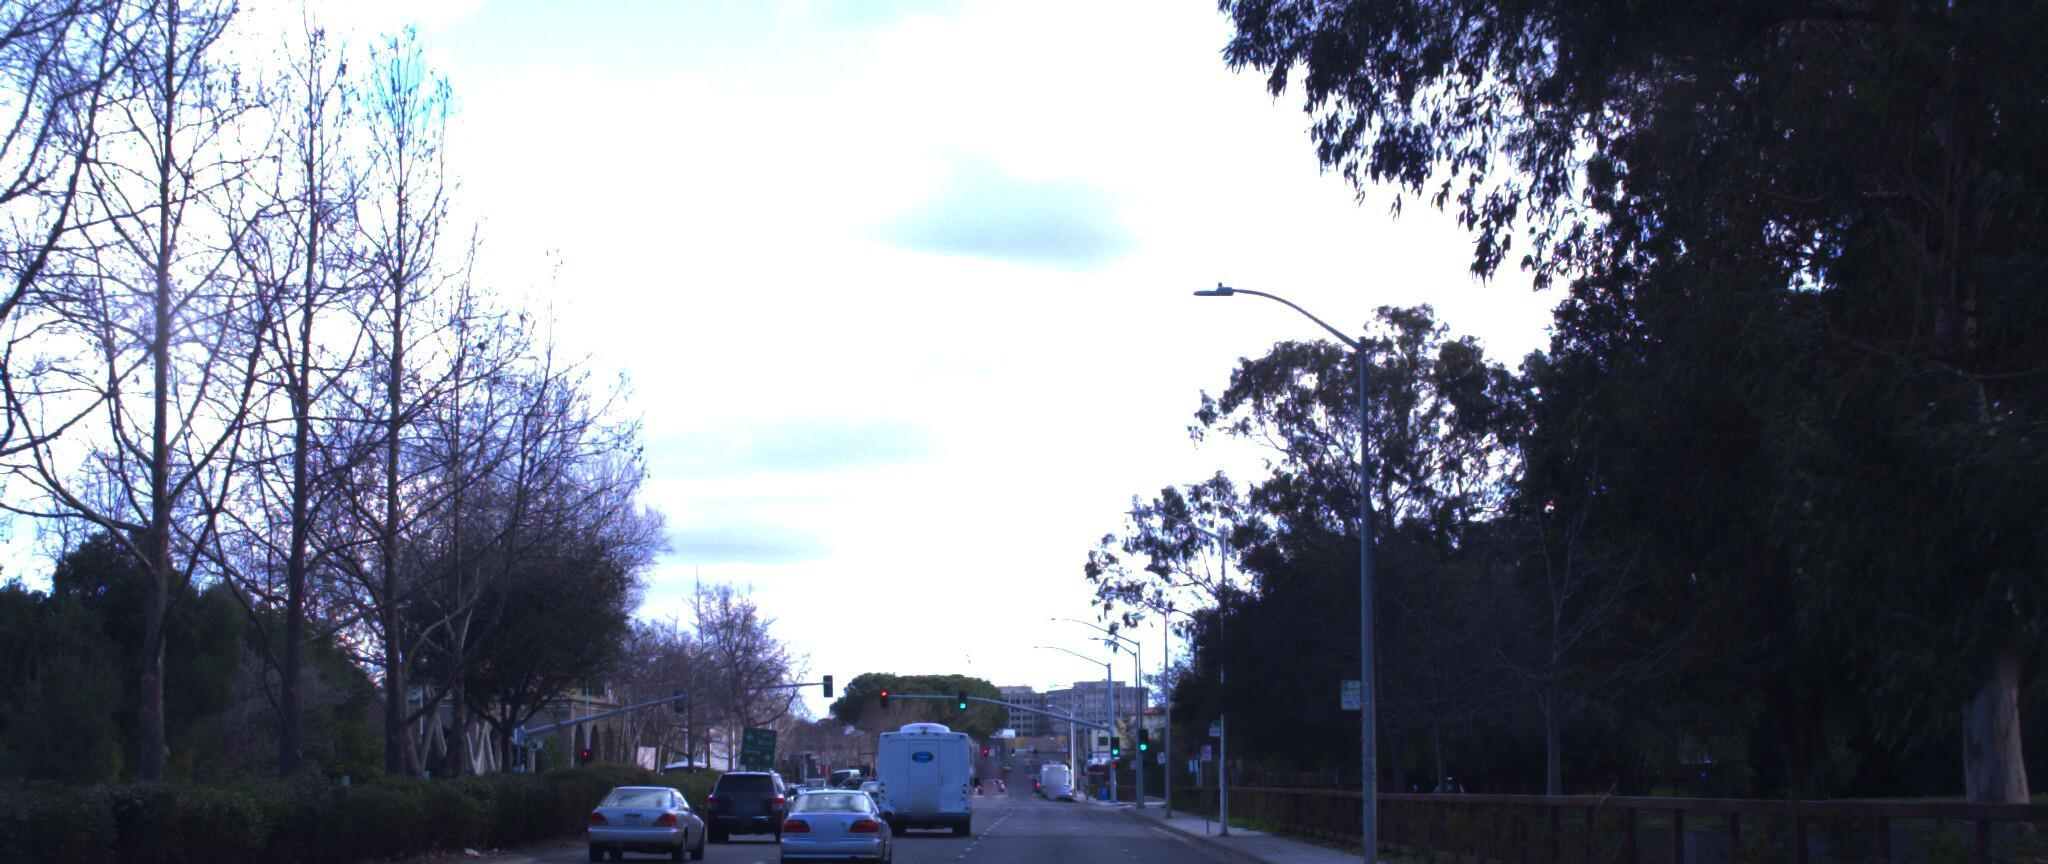bus: (875, 696, 1000, 813)
car: (769, 761, 896, 863), (581, 756, 712, 841), (712, 747, 812, 822)
